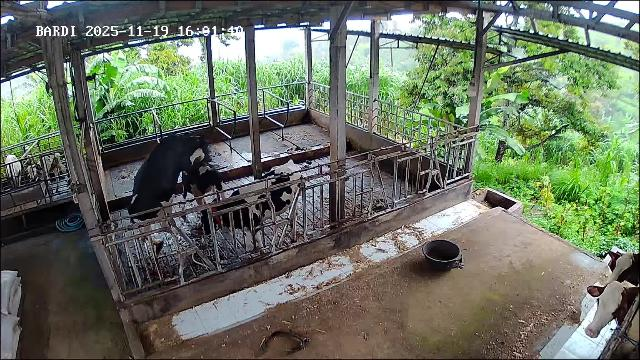mounting: (126, 133, 207, 264)
